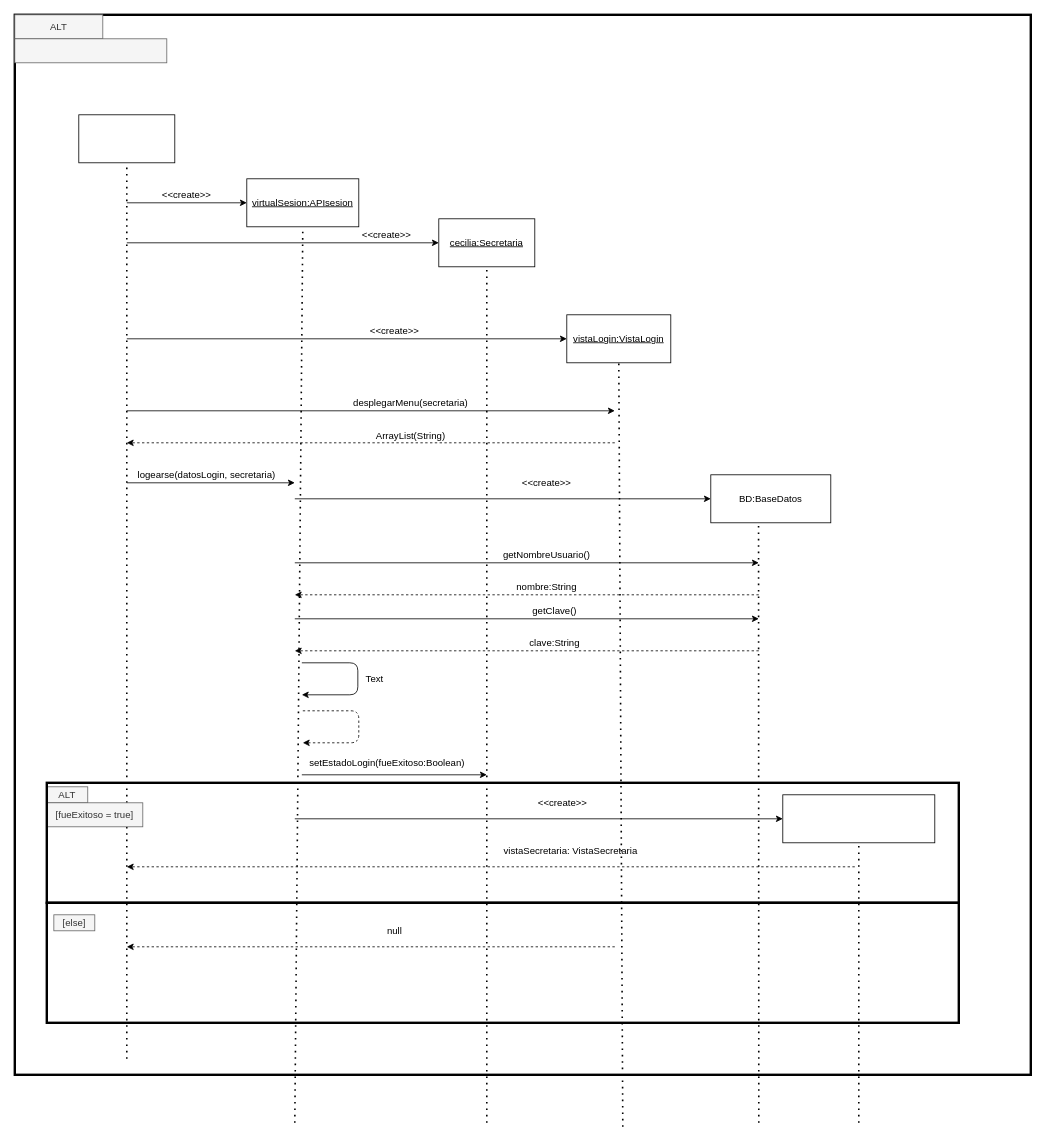
The diagram is 1046 pixels wide and 1142 high, and some of its shapes have lost their labels. The box of each missing label's shape, as (x1, y1, x2, y2) in pixels:
[eleccion = 1]: (14, 38, 167, 63)
GestorDeVistas: (78, 114, 175, 163)
vistaSecretaria:VistaSecretaria: (782, 794, 935, 843)
